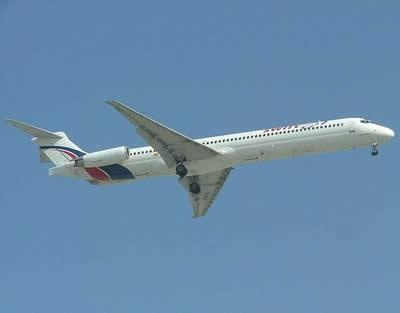airplane: (5, 98, 398, 217)
